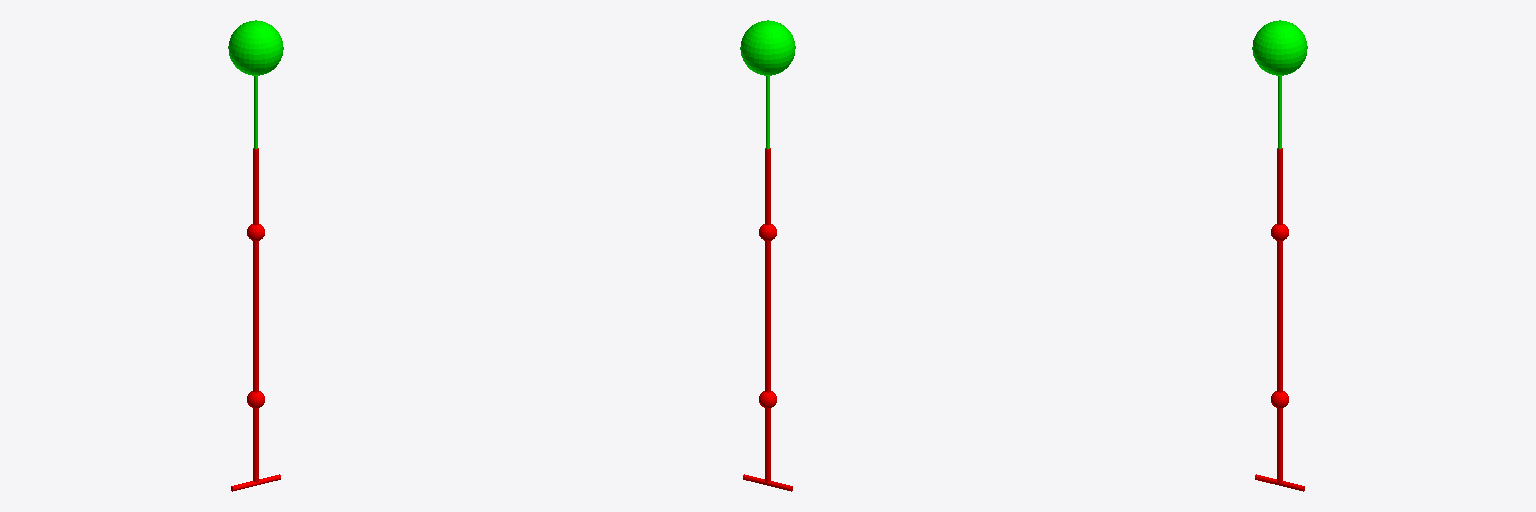
URDF robot description (KneedCompassGaitWithFeet):
<?xml version="1.0" ?>
<robot name="KneedCompassGaitWithFeet">

  <link name="base"/>
  <link name="base_x"/>
  <link name="base_xz"/>
  <link name="torso_mass">
    <inertial>
      <mass value="10"/>
      <inertia ixx=".5" ixy="0" ixz="0" iyy=".5" iyz="0" izz=".5"/>
    </inertial>
    <visual>
      <geometry>
        <sphere radius="0.075"/>
      </geometry>
      <material name="green">
        <color rgba="0 1 0 1"/>
      </material>
    </visual>
  </link>
  <link name="torso">
    <visual>
      <origin xyz="0 0 0.15"/>
      <geometry>
        <cylinder length="0.3" radius="0.005"/>
      </geometry>
      <material name="green">
        <color rgba="0 1 0 1"/>
      </material>
    </visual>
  </link>
  <link name="left_upper_leg">
    <visual>
      <origin xyz="0 0 -0.25"/>
      <geometry>
        <cylinder length="0.5" radius="0.0075"/>
      </geometry>
      <material name="red">
        <color rgba="1 0 0 1"/>
      </material>
    </visual>
  </link>
  <link name="left_upper_leg_mass">
    <visual>
      <origin xyz="0 0 -0.25"/>
      <geometry>
        <sphere radius="0.025"/>
      </geometry>
      <material name="red">
        <color rgba="1 0 0 1"/>
      </material>
    </visual>
    <inertial>
      <origin xyz="0 0 -0.25"/>
      <mass value="2.5"/>
      <inertia ixx="0" ixy="0" ixz="0" iyy="0" iyz="0" izz="0"/>
    </inertial>
  </link>
  <joint name="left_upper_leg_mass_weld" type="fixed">
    <parent link="left_upper_leg"/>
    <child link="left_upper_leg_mass"/>
  </joint>
  <link name="left_lower_leg">
    <visual>
      <origin xyz="0 0 -0.25"/>
      <geometry>
        <cylinder length="0.5" radius="0.0075"/>
      </geometry>
      <material name="red">
        <color rgba="1 0 0 1"/>
      </material>
    </visual>
    <collision>
      <origin xyz="0 0 -0.5"/>
      <geometry>
        <sphere radius="0"/>
      </geometry>
    </collision>
  </link>
  <link name="left_lower_leg_mass">
    <visual>
      <origin xyz="0 0 -0.25"/>
      <geometry>
        <sphere radius="0.025"/>
      </geometry>
      <material name="red">
        <color rgba="1 0 0 1"/>
      </material>
    </visual>
    <inertial>
      <origin xyz="0 0 -0.25"/>
      <mass value="2.5"/>
      <inertia ixx="0" ixy="0" ixz="0" iyy="0" iyz="0" izz="0"/>
    </inertial>
  </link>
  <joint name="left_lower_leg_mass_weld" type="fixed">
    <parent link="left_lower_leg"/>
    <child link="left_lower_leg_mass"/>
  </joint>
  <link name="left_foot">
    <visual>
      <origin xyz="0 0 0"/>
      <geometry>
        <cylinder length="0.15" radius="0.0075"/>
      </geometry>
      <material name="red">
        <color rgba="1 0 0 1"/>
      </material>
    </visual>
    <collision>
      <origin xyz="0 0 0.075"/>
      <geometry>
        <sphere radius="0"/>
      </geometry>
    </collision>
    <collision>
      <origin xyz="0 0 -0.075"/>
      <geometry>
        <sphere radius="0"/>
      </geometry>
    </collision>
  </link>
  <link name="right_upper_leg">
    <visual>
      <origin xyz="0 0 -0.25"/>
      <geometry>
        <cylinder length="0.5" radius="0.0075"/>
      </geometry>
      <material name="blue">
        <color rgba="0 0 1 1"/>
      </material>
    </visual>
  </link>
  <link name="right_upper_leg_mass">
    <visual>
      <origin xyz="0 0 -0.25"/>
      <geometry>
        <sphere radius="0.025"/>
      </geometry>
      <material name="blue">
        <color rgba="0 0 1 1"/>
      </material>
    </visual>
    <inertial>
      <origin xyz="0 0 -0.25"/>
      <mass value="2.5"/>
      <inertia ixx="0" ixy="0" ixz="0" iyy="0" iyz="0" izz="0"/>
    </inertial>
  </link>
  <joint name="right_upper_leg_mass_weld" type="fixed">
    <parent link="right_upper_leg"/>
    <child link="right_upper_leg_mass"/>
  </joint>
  <link name="right_lower_leg">
    <visual>
      <origin xyz="0 0 -0.25"/>
      <geometry>
        <cylinder length="0.5" radius="0.0075"/>
      </geometry>
      <material name="blue">
        <color rgba="0 0 1 1"/>
      </material>
    </visual>
    <collision>
      <origin xyz="0 0 -0.5"/>
      <geometry>
        <sphere radius="0"/>
      </geometry>
    </collision>
  </link>
  <link name="right_lower_leg_mass">
    <visual>
      <origin xyz="0 0 -0.25"/>
      <geometry>
        <sphere radius="0.025"/>
      </geometry>
      <material name="blue">
        <color rgba="0 0 1 1"/>
      </material>
    </visual>
    <inertial>
      <origin xyz="0 0 -0.25"/>
      <mass value="2.5"/>
      <inertia ixx="0" ixy="0" ixz="0" iyy="0" iyz="0" izz="0"/>
    </inertial>
  </link>
  <link name="right_foot">
    <visual>
      <origin xyz="0 0 0"/>
      <geometry>
        <cylinder length="0.15" radius="0.0075"/>
      </geometry>
      <material name="blue">
        <color rgba="0 0 1 1"/>
      </material>
    </visual>
    <collision>
      <origin xyz="0 0 0.075"/>
      <geometry>
        <sphere radius="0"/>
      </geometry>
    </collision>
    <collision>
      <origin xyz="0 0 -0.075"/>
      <geometry>
        <sphere radius="0"/>
      </geometry>
    </collision>
  </link>
  <joint name="planar_x" type="prismatic">
    <parent link="base"/>
    <child link="base_x"/>
    <axis xyz="1 0 0"/>
  </joint>
  <joint name="planar_z" type="prismatic">
    <parent link="base_x"/>
    <child link="base_xz"/>
    <axis xyz="0 0 1"/>
  </joint>
  <joint name="planar_roty" type="continuous">
    <parent link="base_xz"/>
    <child link="torso"/>
    <axis xyz="0 1 0"/>
  </joint>
  <joint name="torso_mass_weld" type="fixed">
    <parent link="torso"/>
    <child link="torso_mass"/>
    <origin xyz="0 0 0.3"/>
  </joint>
  <joint name="right_lower_leg_mass_weld" type="fixed">
    <parent link="right_lower_leg"/>
    <child link="right_lower_leg_mass"/>
  </joint>
  <joint name="left_hip_pin" type="continuous">
    <parent link="torso"/>
    <child link="left_upper_leg"/>
    <axis xyz="0 1 0"/>
  </joint>
  <joint name="right_hip_pin" type="continuous">
    <parent link="torso"/>
    <child link="right_upper_leg"/>
    <axis xyz="0 1 0"/>
  </joint>
  <joint name="left_knee_pin" type="continuous">
    <parent link="left_upper_leg"/>
    <child link="left_lower_leg"/>
    <axis xyz="0 1 0"/>
    <origin xyz="0 0 -0.5"/>
    <limit effort="100" lower="0"/>
  </joint>
  <joint name="left_ankle" type="revolute">
    <parent link="left_lower_leg"/>
    <child link="left_foot"/>
    <axis xyz="0 1 0"/>
    <origin xyz="0 0 -0.5" rpy="0 1.57 0"/>
    <limit effort="100" lower="0"/>
  </joint>
  <joint name="right_knee_pin" type="revolute">
    <parent link="right_upper_leg"/>
    <child link="right_lower_leg"/>
    <axis xyz="0 1 0"/>
    <origin xyz="0 0 -0.5"/>
    <limit effort="100" lower="0"/>
  </joint>
  <joint name="right_ankle" type="revolute">
    <parent link="right_lower_leg"/>
    <child link="right_foot"/>
    <axis xyz="0 1 0"/>
    <origin xyz="0 0 -0.5" rpy="0 1.57 0"/>
    <limit effort="100" lower="0"/>
  </joint>
  <transmission name="left_hip_trans" type="SimpleTransmission">
    <actuator name="left_hip_torque"/>
    <joint name="left_hip_pin"/>
    <mechanicalReduction>1</mechanicalReduction>
  </transmission>
  <transmission name="right_hip_trans" type="SimpleTransmission">
    <actuator name="right_hip_torque"/>
    <joint name="right_hip_pin"/>
    <mechanicalReduction>1</mechanicalReduction>
  </transmission>
  <transmission name="left_knee_trans" type="SimpleTransmission">
    <actuator name="left_knee_torque"/>
    <joint name="left_knee_pin"/>
    <mechanicalReduction>1</mechanicalReduction>
  </transmission>
  <transmission name="left_ankle_trans" type="SimpleTransmission">
    <actuator name="left_ankle_torque"/>
    <joint name="left_ankle"/>
    <mechanicalReduction>1</mechanicalReduction>
  </transmission>
  <transmission name="right_knee_trans" type="SimpleTransmission">
    <actuator name="right_knee_torque"/>
    <joint name="right_knee_pin"/>
    <mechanicalReduction>1</mechanicalReduction>
  </transmission>
  <transmission name="right_knee_trans" type="SimpleTransmission">
    <actuator name="right_knee_torque"/>
    <joint name="right_knee_pin"/>
    <mechanicalReduction>1</mechanicalReduction>
  </transmission>
  <transmission name="right_ankle_trans" type="SimpleTransmission">
    <actuator name="right_ankle_torque"/>
    <joint name="right_ankle"/>
    <mechanicalReduction>1</mechanicalReduction>
  </transmission>
  <collision_filter_group name="robot_links">
    <member link='left_foot'/>
    <member link='right_foot'/>
    <member link="left_lower_leg_mass"/>
    <member link="right_lower_leg_mass"/>
    <member link="left_lower_leg"/>
    <member link="right_lower_leg"/>
    <member link="right_upper_leg"/>
    <member link="left_upper_leg"/>
    <member link="torso"/>
    <member link="torso_mass"/>
    <ignored_collision_filter_group collision_filter_group="robot_links"/>
  </collision_filter_group>
</robot>

--- Render facts (derived) ---
The picture shows the robot from 3 angles, left to right: view 1: azimuth 30°, elevation 25°; view 2: azimuth 150°, elevation 25°; view 3: azimuth 330°, elevation 25°; orthographic projection.
Robot: KneedCompassGaitWithFeet — 15 links, 14 joints (3 revolute, 4 continuous, 2 prismatic, 5 fixed); root link base; default pose: every joint at zero.
Visible links, largest first — view 1: torso_mass, left_upper_leg, left_lower_leg; view 2: torso_mass, left_upper_leg, left_lower_leg; view 3: torso_mass, left_upper_leg, left_lower_leg.
Boxes of the visible links, left/top/right/bottom form: torso_mass: left=228, top=20, right=283, bottom=75; left_upper_leg: left=253, top=148, right=258, bottom=316; left_lower_leg: left=253, top=316, right=258, bottom=483; torso_mass: left=740, top=20, right=795, bottom=75; left_upper_leg: left=765, top=148, right=770, bottom=316; left_lower_leg: left=765, top=316, right=770, bottom=483; torso_mass: left=1252, top=20, right=1307, bottom=75; left_upper_leg: left=1277, top=148, right=1282, bottom=316; left_lower_leg: left=1277, top=316, right=1282, bottom=483.
Bounding box of the posed robot: 0.15 × 0.15 × 1.38 m (x, y, z).
Geometry: primitives only (box / cylinder / sphere), no mesh files.
